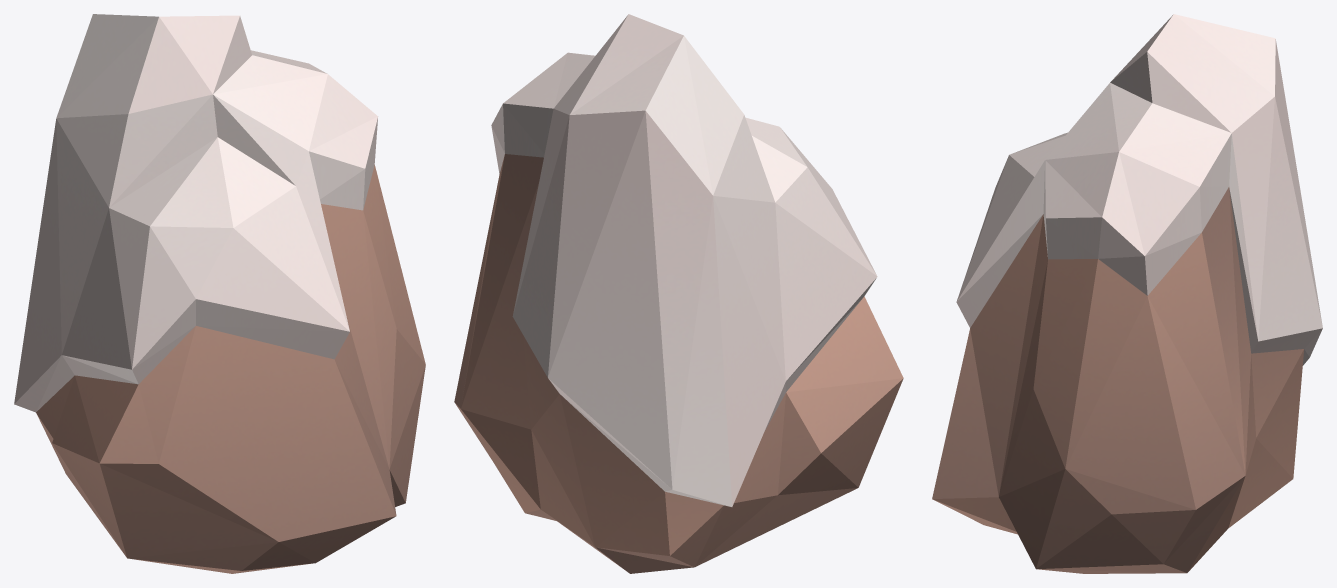
File: Rock_Medium_1A.fbx
The picture shows the model from 3 angles, left to right: view 1: azimuth 30°, elevation 25°; view 2: azimuth 150°, elevation 25°; view 3: azimuth 270°, elevation 25°; orthographic projection. The views are drawn at different scales.
Visible parts, largest first — view 1: Group64599; view 2: Group64599; view 3: Group64599.
Boxes of the visible parts, x1,y1,x2,y2 form: Group64599: (14,14,425,573); Group64599: (454,14,903,573); Group64599: (932,14,1322,573).
Size of the model in its own units: 3.22 by 4.45 by 3.17.
Materials: 1 (1 with a texture image).
